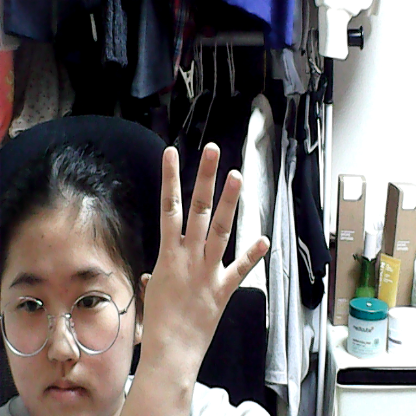Finger_4: (133, 133, 282, 372)
